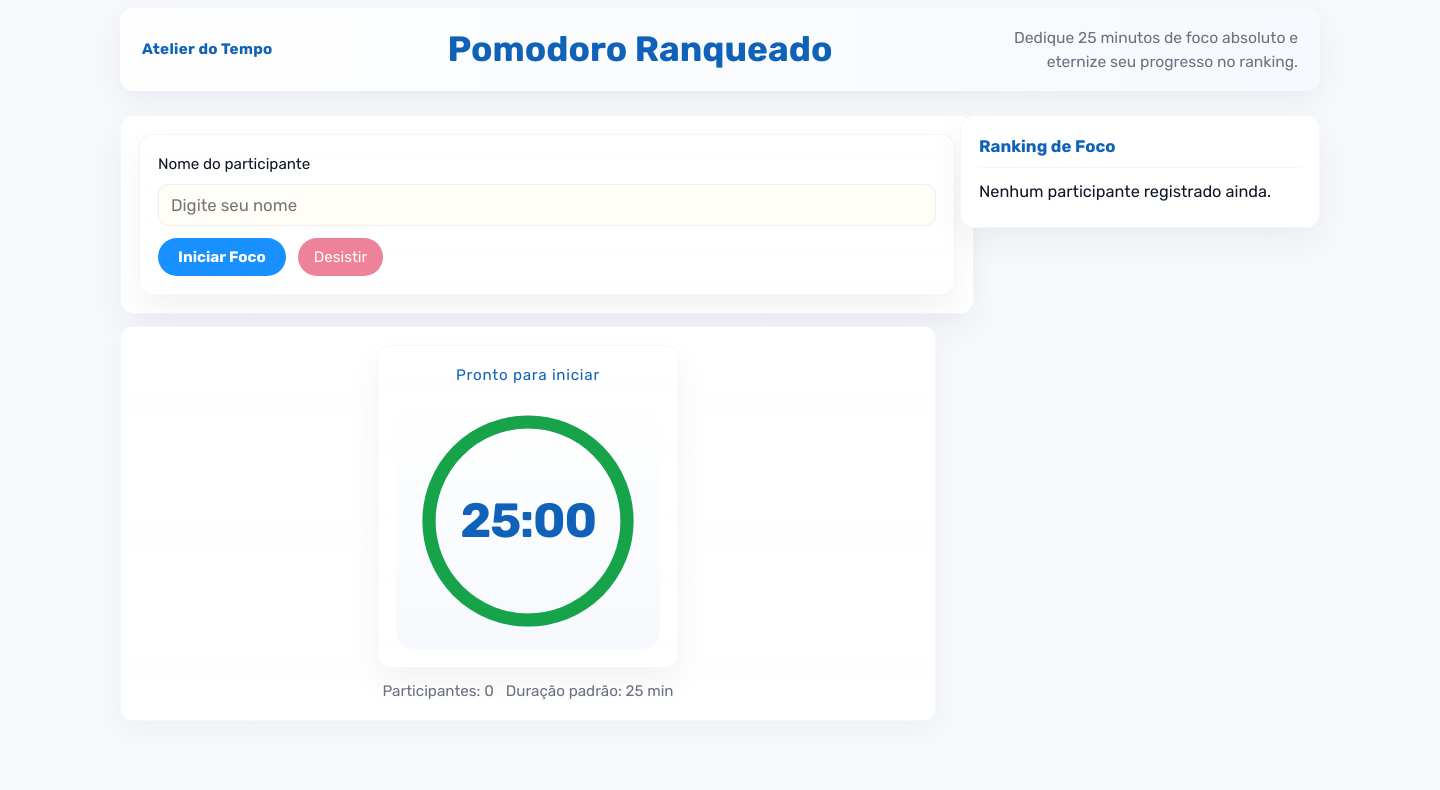
Test case: registro da sessão › exibe erro e permite tentar novamente com sucesso
Type "Ana" into the field labelled "Nome do participante" at (547, 205), box [158,184,936,226]
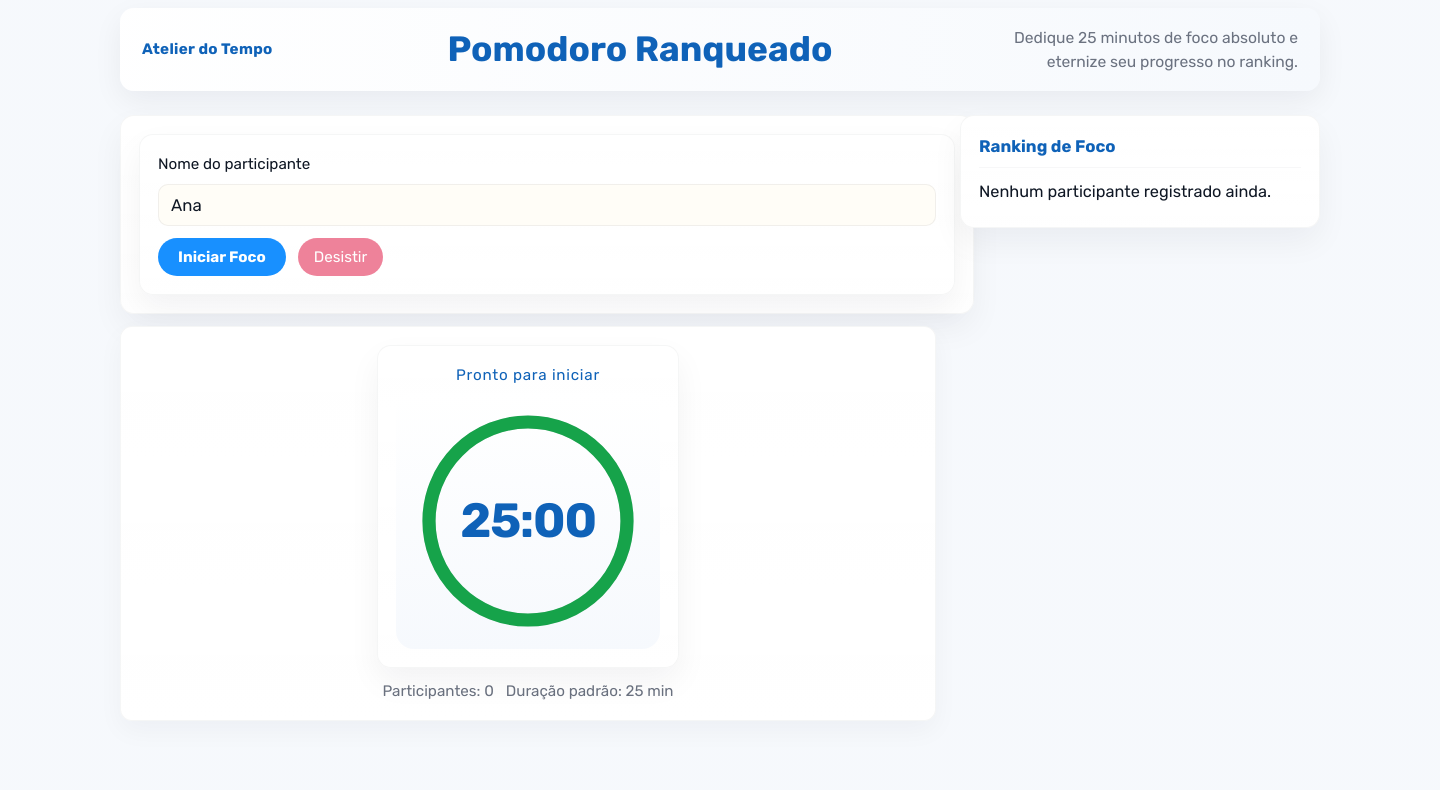
Click the button "Iniciar Foco" at (222, 257), box [158,238,286,276]
Wait 250 ms
(page scrolled)
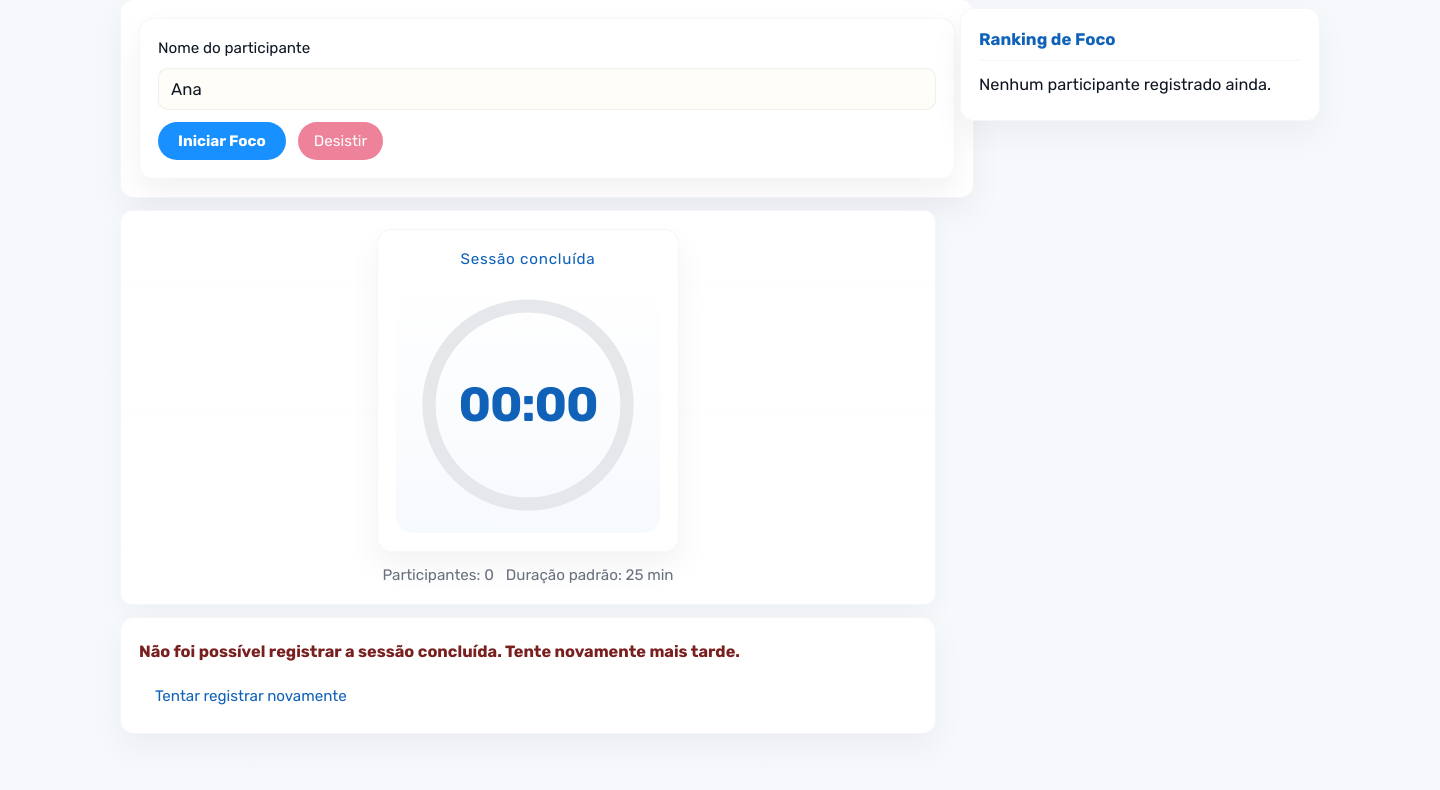
Expected: the text "Não foi possível registrar a sessão concluída. Tente novamente mais tarde." is shown, [139,642,740,662]
Click the button "Tentar registrar novamente" at (251, 696), box [139,677,363,715]
(page scrolled)
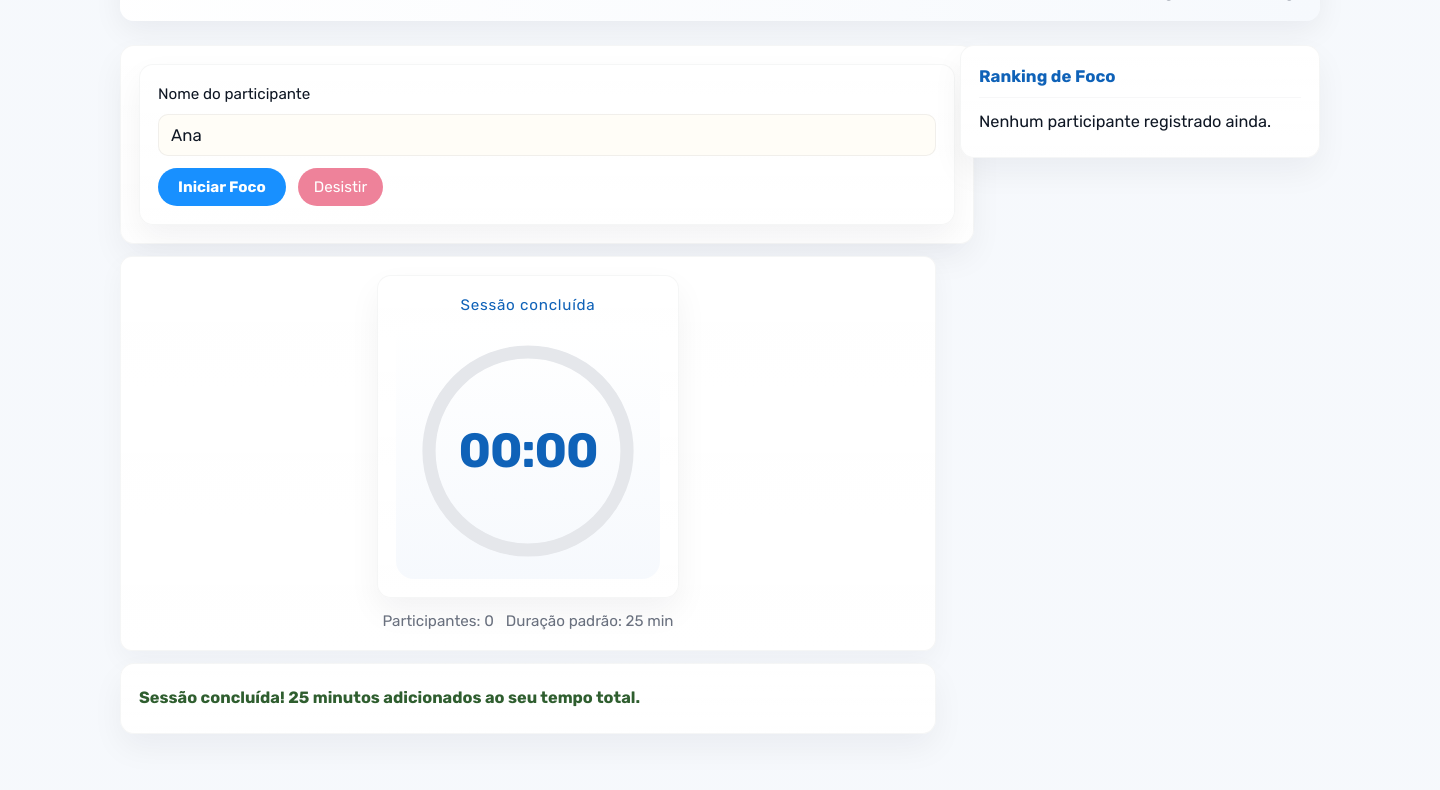
Expected: the text "Sessão concluída! 25 minutos adicionados ao seu tempo total." is shown, [139,688,640,708]
Expected: the button "Tentar registrar novamente" is gone
